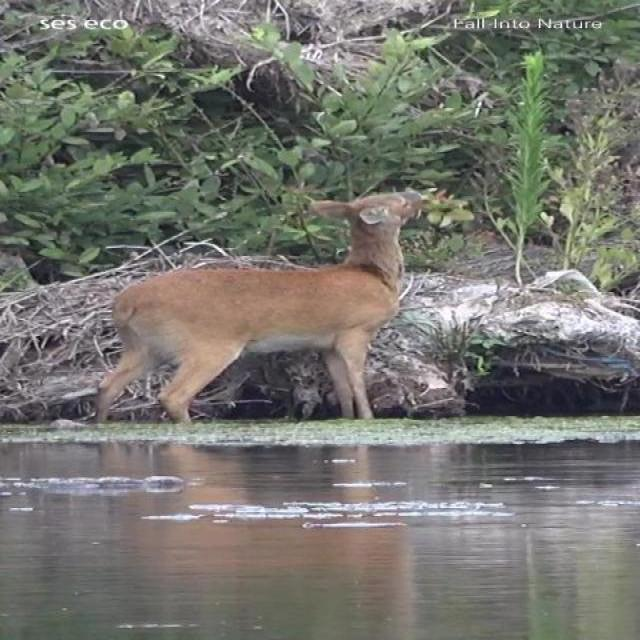deer: (87, 187, 436, 410)
